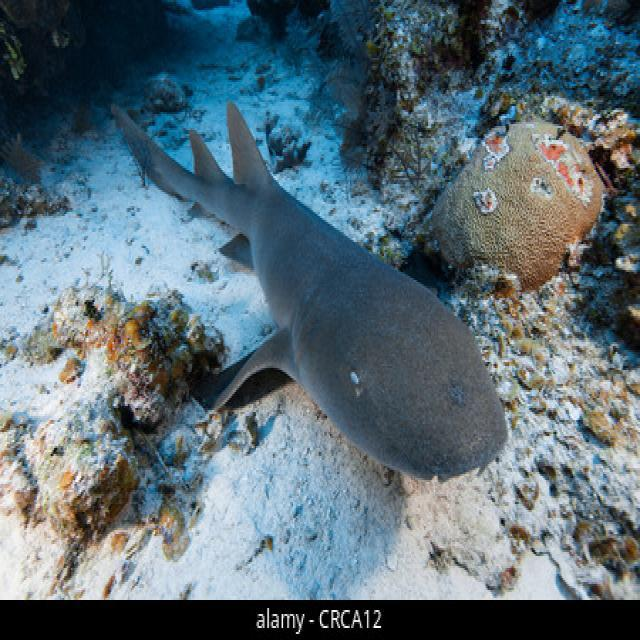Shark: (98, 90, 516, 500)
